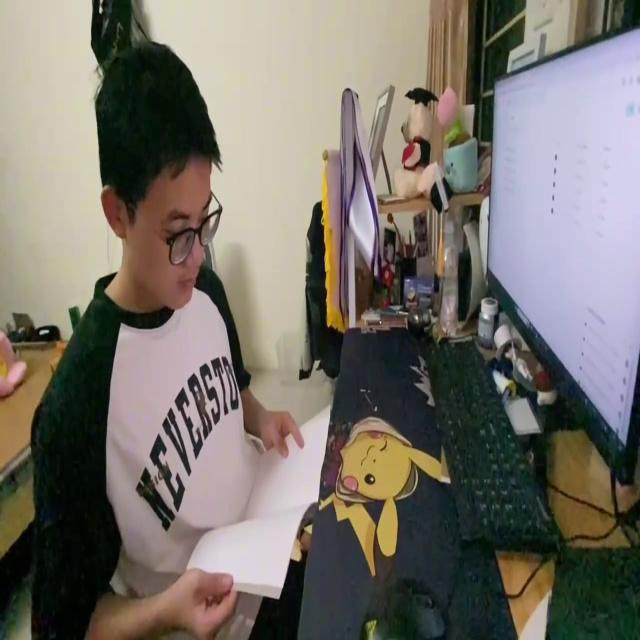book: (178, 399, 334, 602)
laptop: (482, 17, 640, 488)
student: (23, 40, 300, 640)
